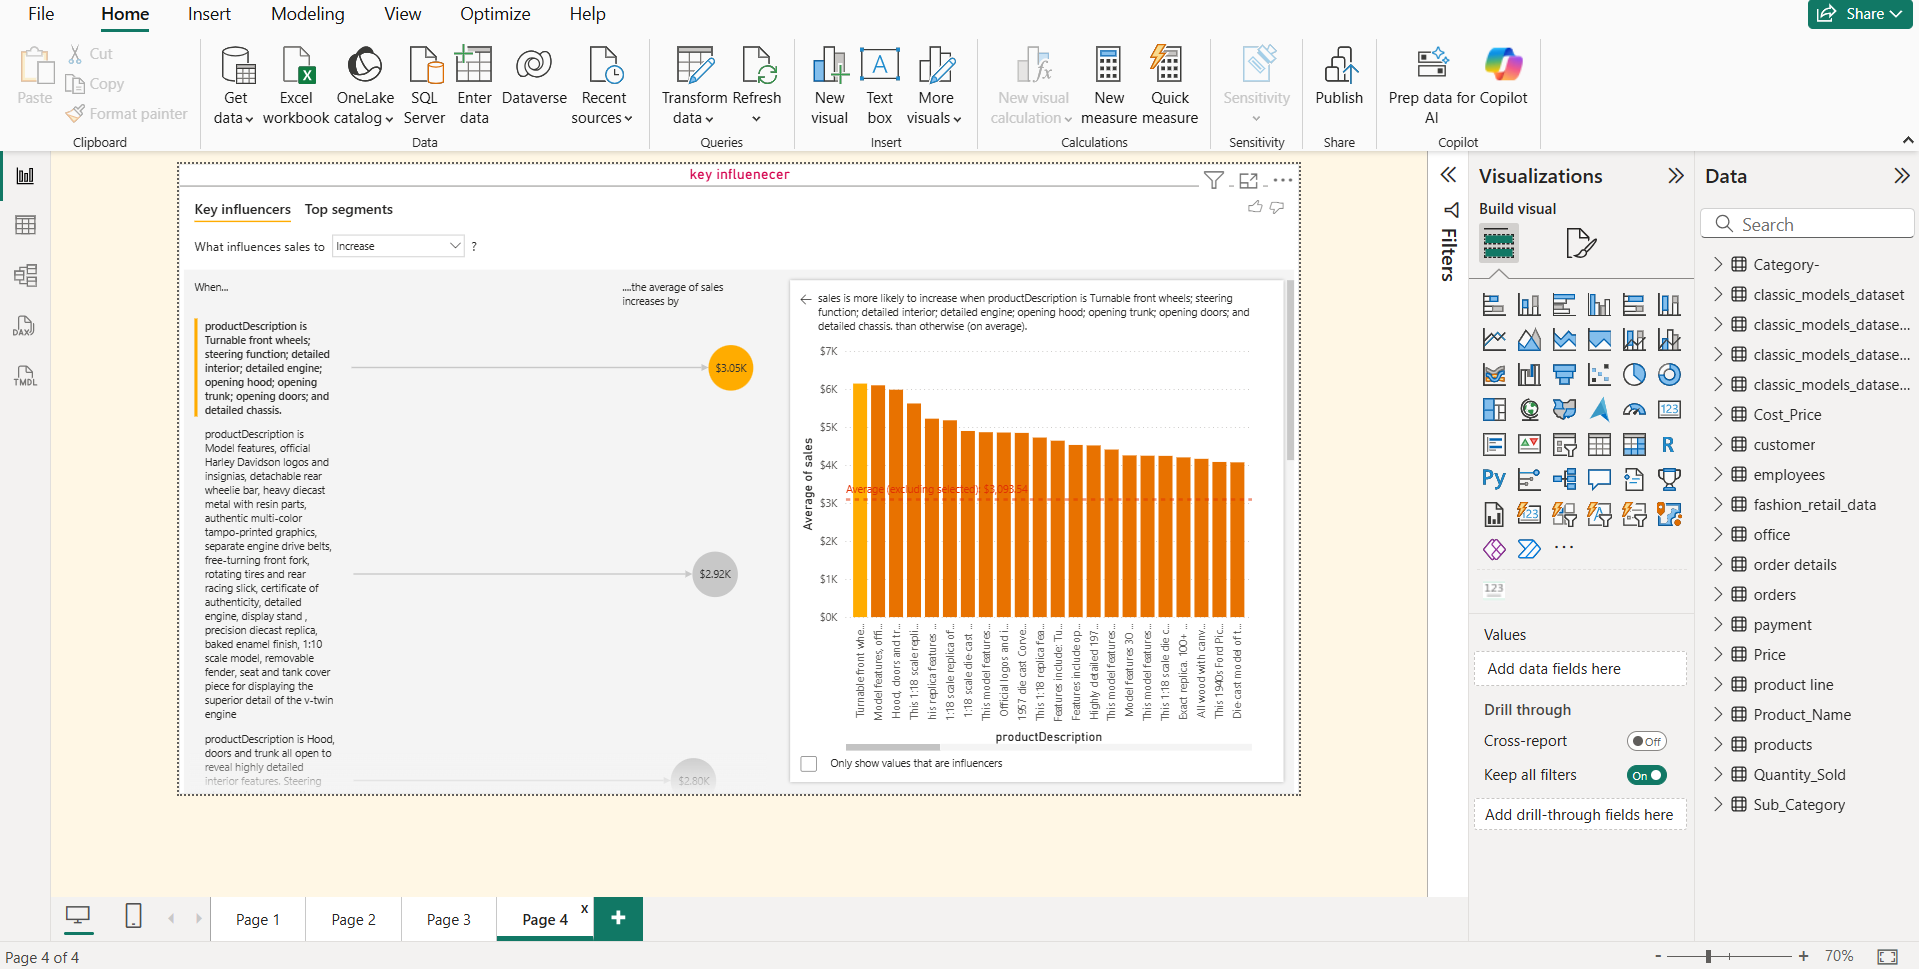

This screenshot's page, from the dashboard's own definition file:
{"tool":"powerbi","page":{"name":"Page 4","canvas":[1280,720],"ordinal":3},"visuals":[{"type":"keyDriversVisual","title":"key influenecer ","fields":{"Target":["order details.sales"],"ExplainBy":["products.productDescription"]},"box":[0,0,1280,720],"z":0}]}

Visuals, with their boxes on the page's 1280x720 design canvas (x1, y1, x2, y2). These are canvas units, not pixel positions in the 1919x969 screenshot, which may show the page scaled, cropped or inside an application window:
"key influenecer " keyDriversVisual: {"x1": 0, "y1": 0, "x2": 1280, "y2": 720}
